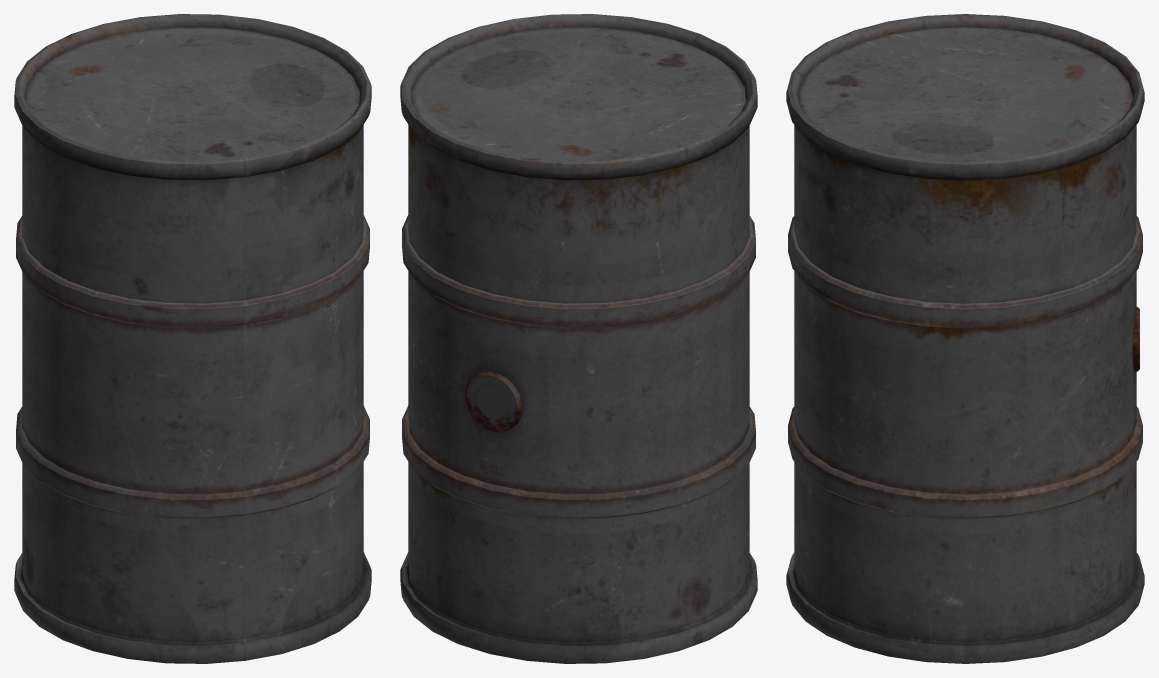
The model's file is Prop_GasBarrel_Grey.fbx.
3 renders of one model, left to right at view 1: azimuth 30°, elevation 25°; view 2: azimuth 150°, elevation 25°; view 3: azimuth 270°, elevation 25°, orthographic.
Visible parts, largest first — view 1: Prop_GasBarrel_Grey; view 2: Prop_GasBarrel_Grey; view 3: Prop_GasBarrel_Grey.
Part boxes in pixels (x1,y1,x2,y2): Prop_GasBarrel_Grey: (14, 14, 371, 663); Prop_GasBarrel_Grey: (400, 14, 757, 663); Prop_GasBarrel_Grey: (786, 14, 1144, 663).
Bounding box in the file's own units: 29.13 × 45.07 × 29.13.
